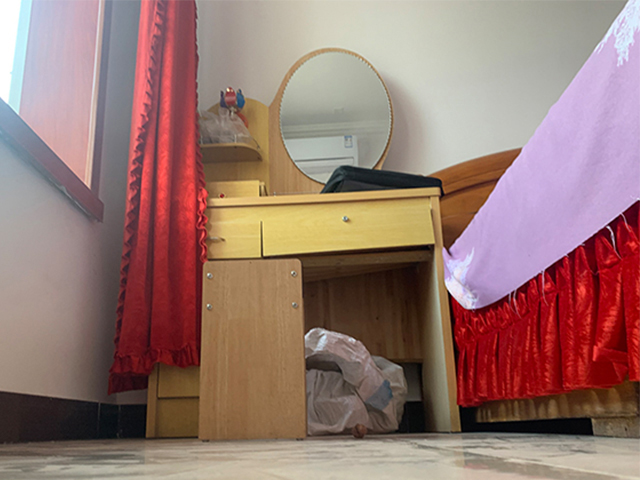bed: (430, 1, 640, 436)
curtain: (111, 1, 201, 386)
stool: (199, 256, 307, 444)
table: (195, 184, 461, 442)
